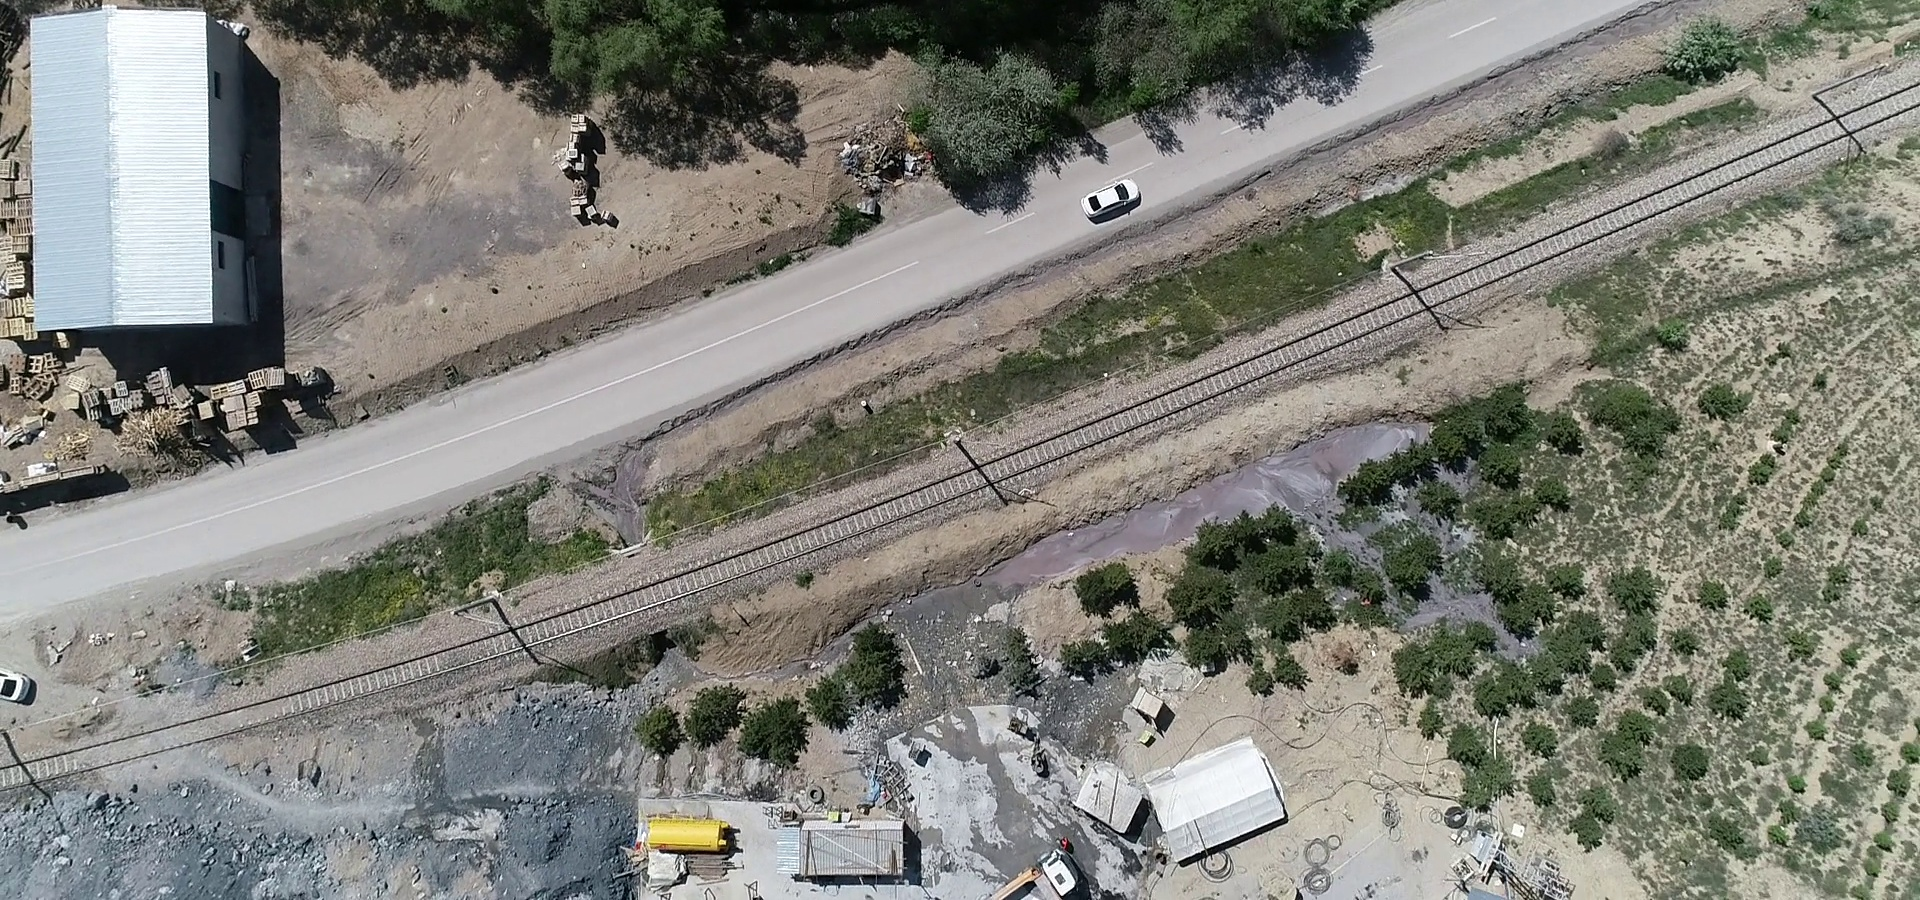arac: (984, 844, 1092, 900), (1076, 178, 1149, 229)
